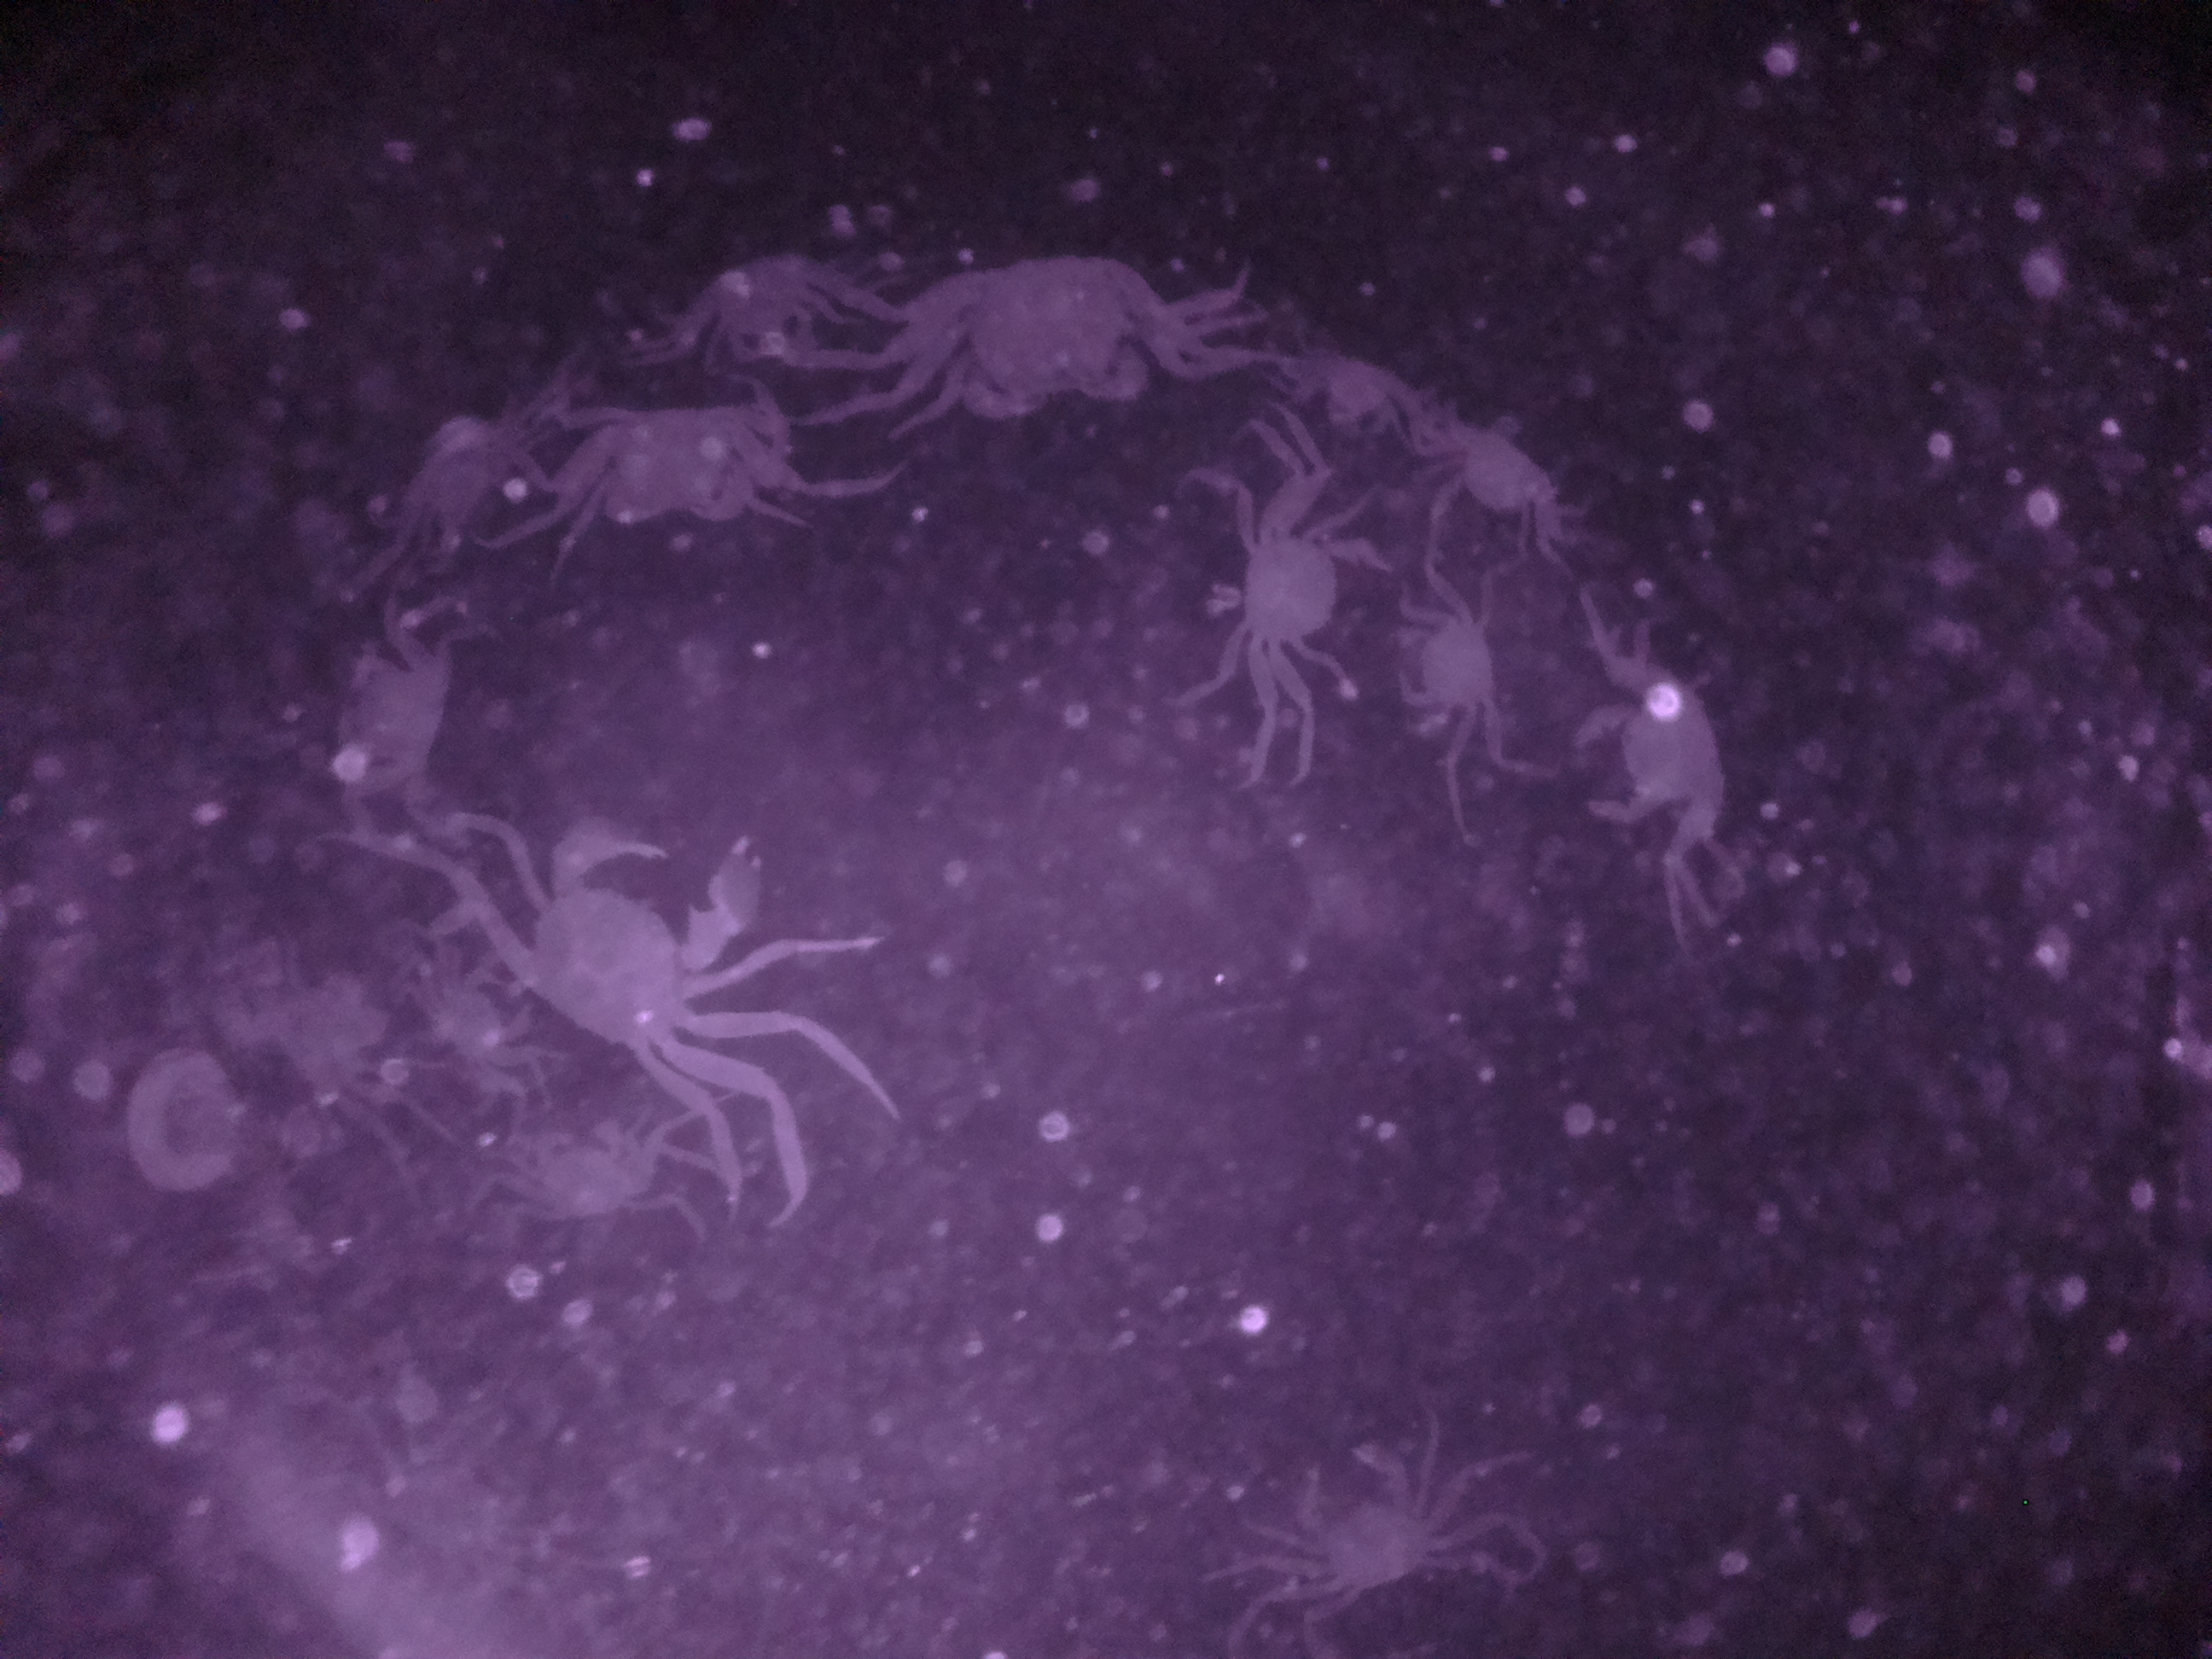Crab: (469, 809, 806, 1075), (900, 230, 1197, 434), (549, 368, 801, 544), (1270, 1431, 1467, 1638), (1569, 659, 1749, 863), (1221, 488, 1390, 704), (660, 228, 876, 375), (1416, 403, 1575, 540), (1388, 580, 1519, 742), (1258, 336, 1456, 437)
